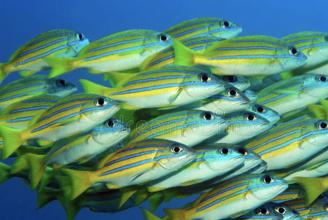Lutjanidae -Snappers-: (60, 134, 198, 206), (0, 87, 125, 162), (165, 25, 312, 87), (78, 64, 227, 117), (0, 27, 97, 97), (165, 167, 287, 220)
